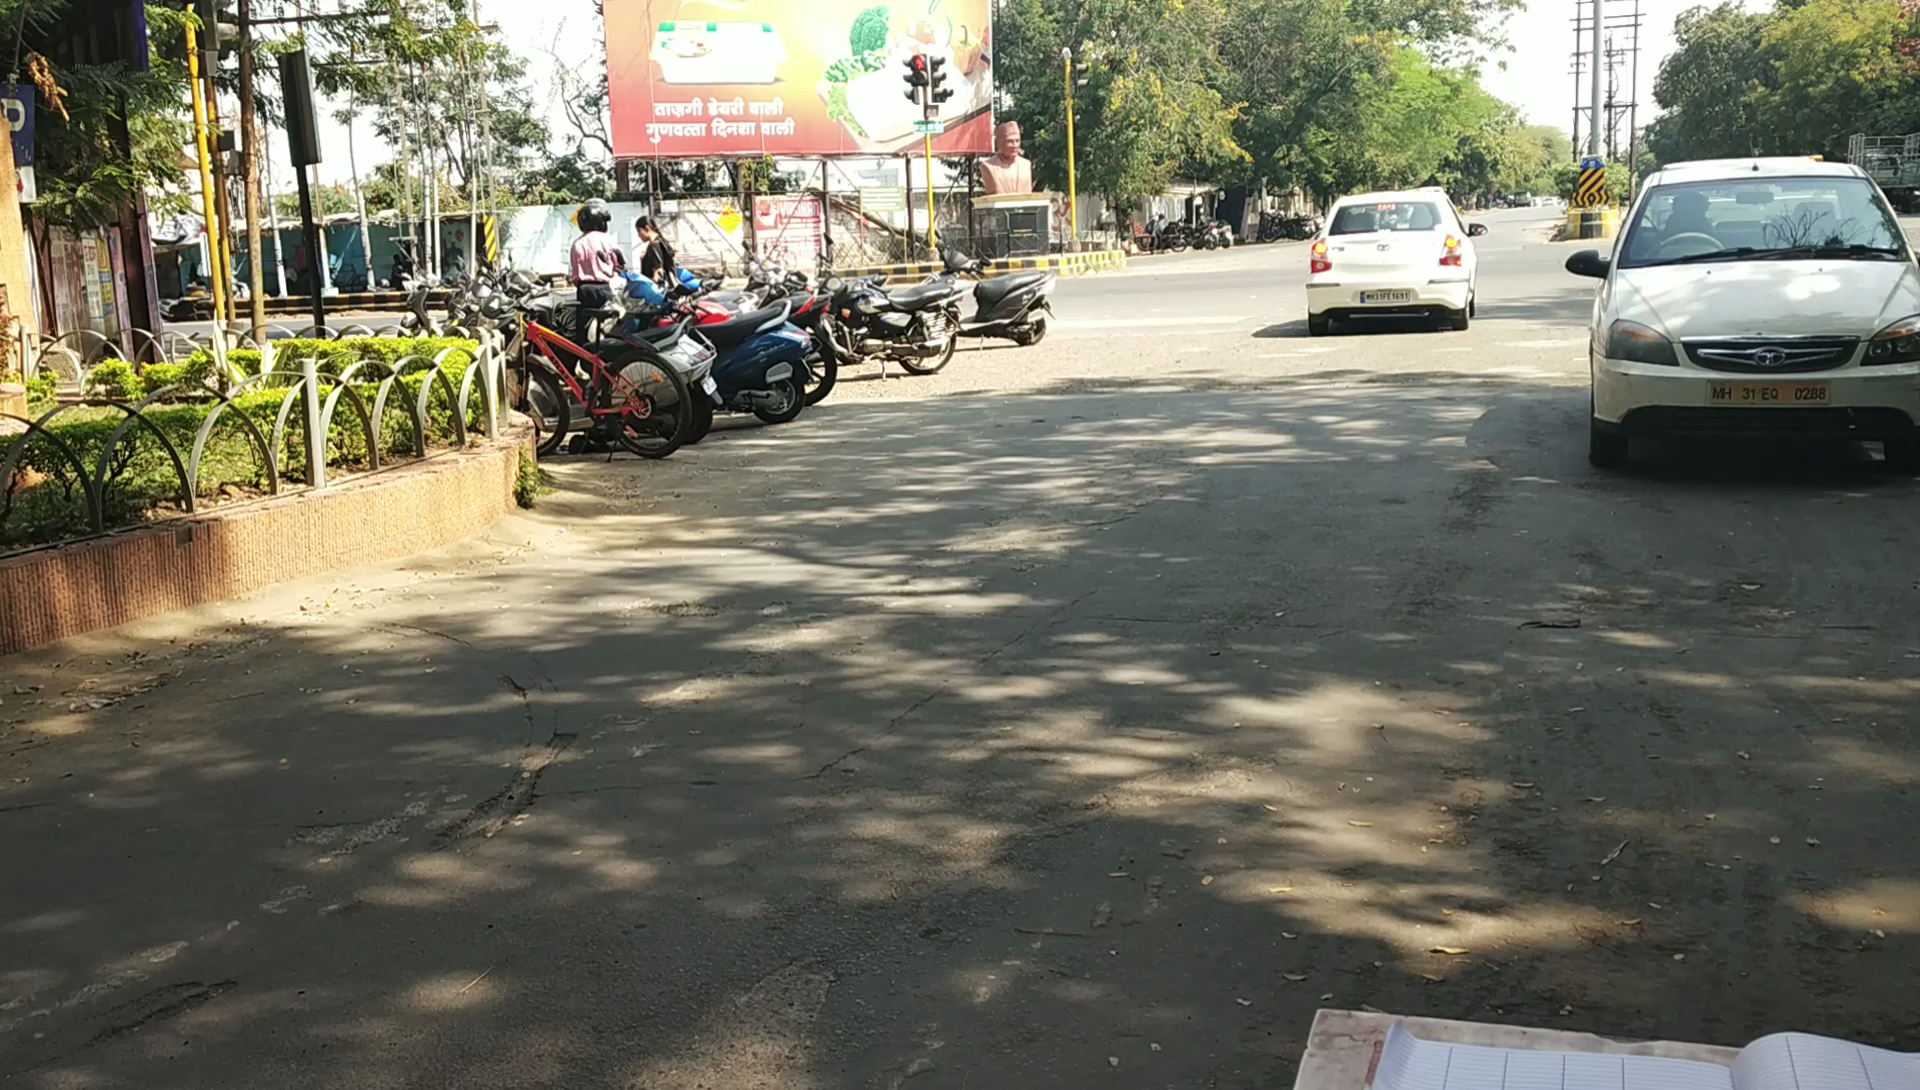car: (1575, 135, 1920, 474)
numplate: (1708, 379, 1833, 412)
